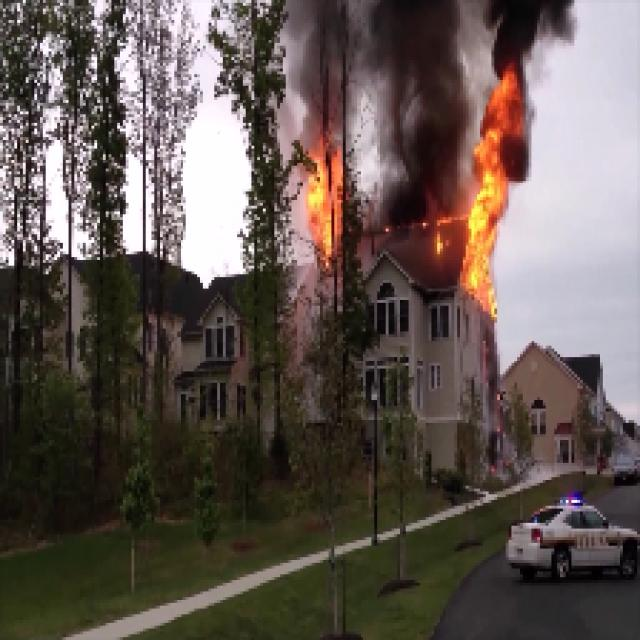fire: (474, 83, 510, 297)
smoke: (367, 1, 460, 194), (492, 0, 536, 75)
